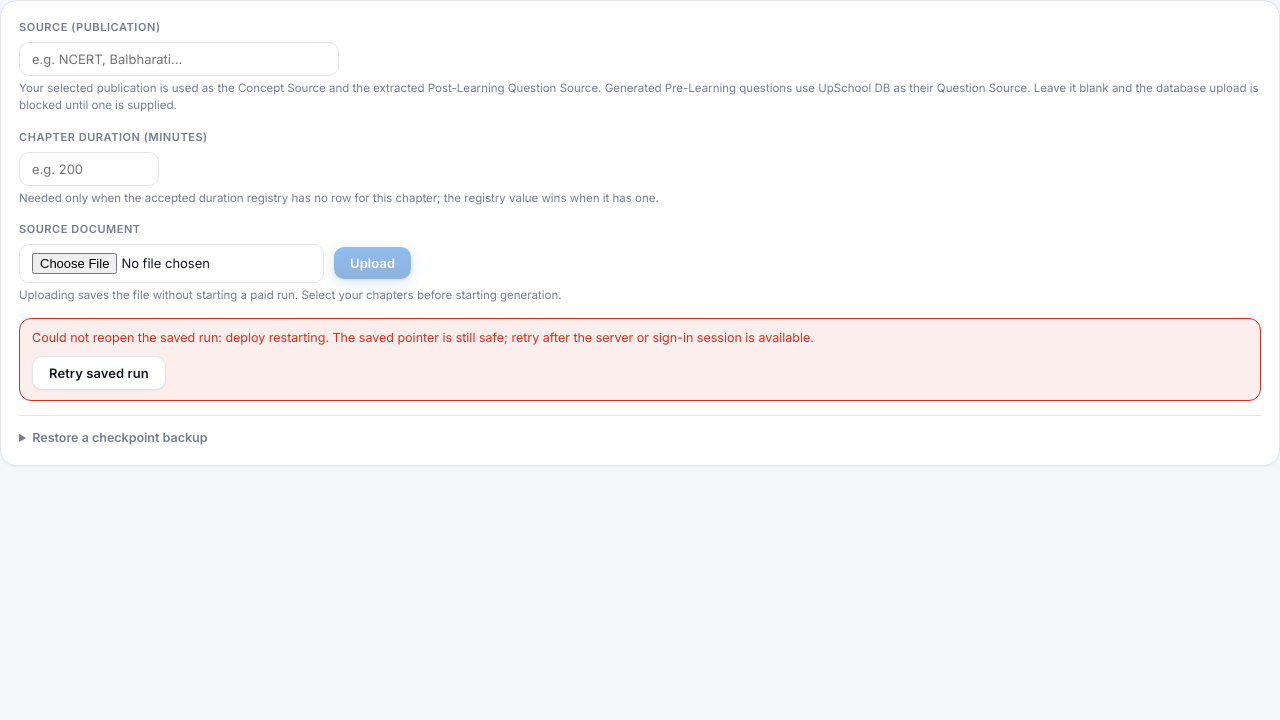
Test: a transient restore failure keeps the paid run pointer and can retry
Expected: the message shows "saved pointer is still safe", [32, 330, 814, 345]
Step 1. Click the button "Retry saved run" → coordinates (99, 373), box [32, 356, 166, 390]
(page scrolled)
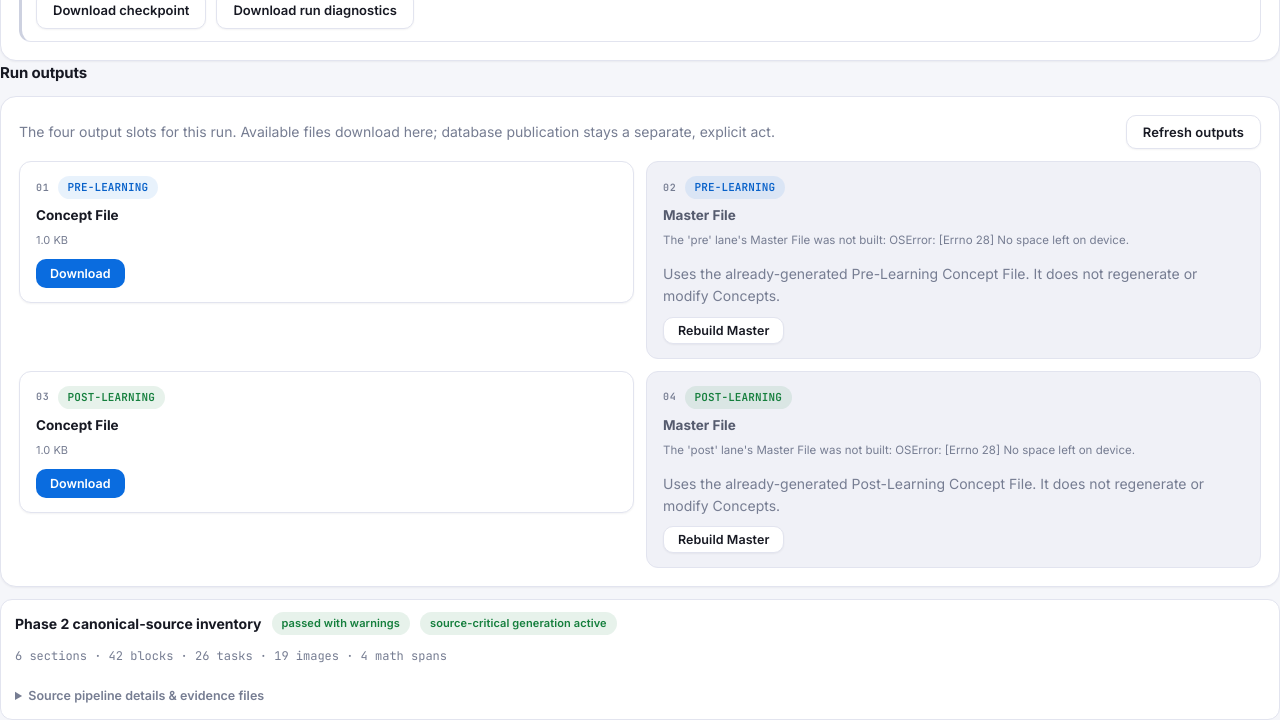
Expected: the button with aria-label "Rebuild Post-Learning Master File" is shown, [663, 526, 784, 553]
